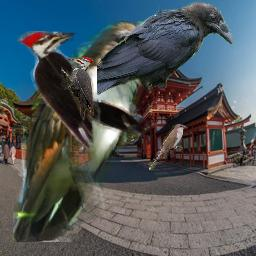Crow: (97, 1, 234, 96)
Cuckoo: (13, 21, 173, 242), (149, 124, 188, 170)
Woodpecker: (17, 31, 155, 150), (61, 57, 94, 122)
